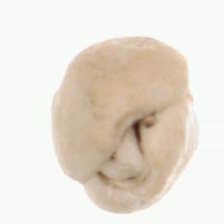L3: (94, 115, 153, 184)
L4: (51, 36, 199, 213)
